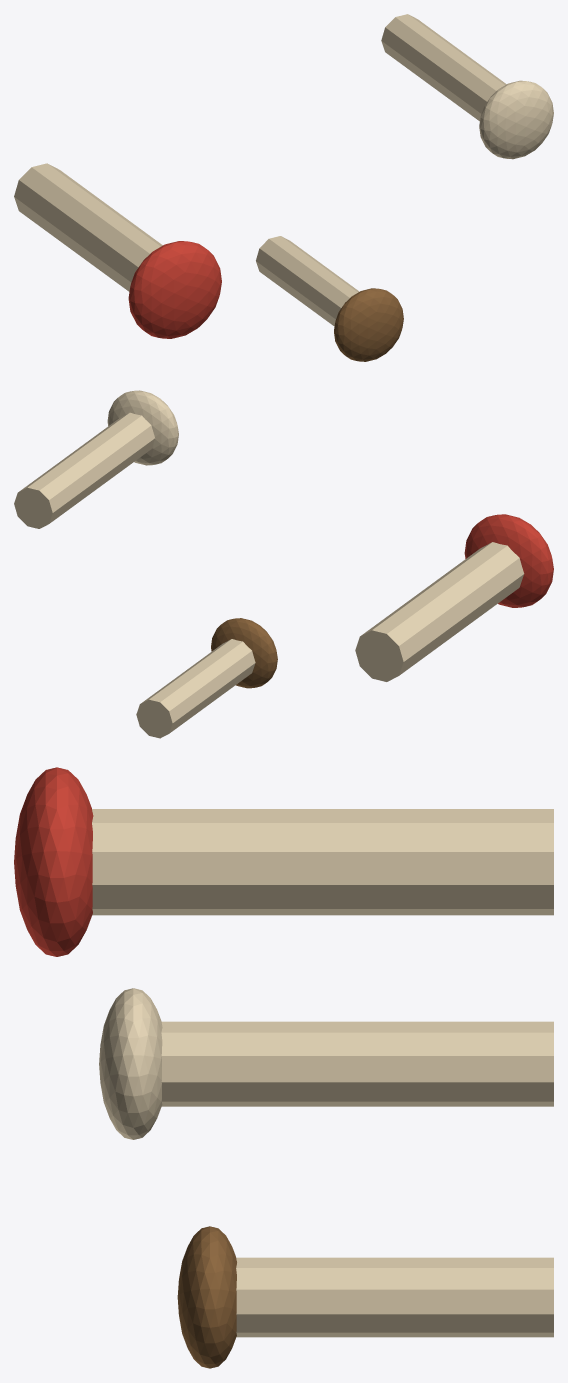
Rendered from mushroom_cluster.glb.
3 renders of one model, top to bottom at view 1: azimuth 30°, elevation 25°; view 2: azimuth 150°, elevation 25°; view 3: azimuth 270°, elevation 25°, orthographic. The views are drawn at different scales.
Visible parts, largest first — view 1: world; view 2: world; view 3: world.
Boxes of the visible parts, x1,y1,x2,y2 form: world: [14, 14, 553, 361]; world: [14, 390, 553, 738]; world: [14, 767, 553, 1368].
Bounding box in the file's own units: 0.49 × 0.2775 × 0.2825.
